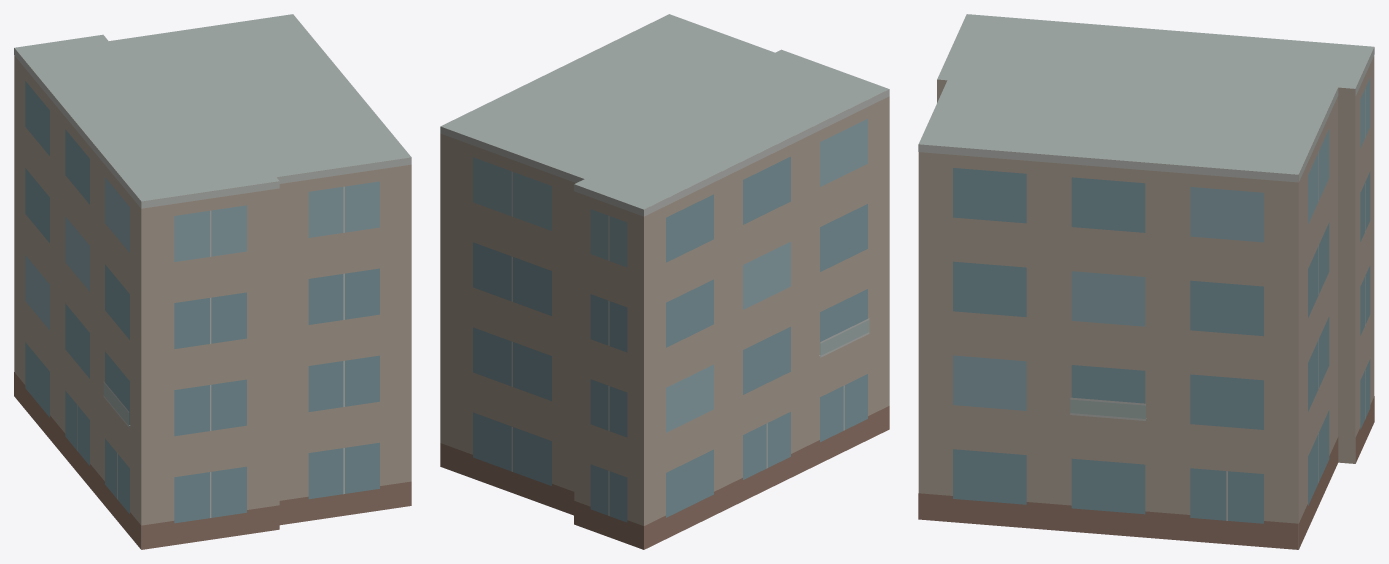
The model's file is survey-upis-32784476.glb.
3 renders of one model, left to right at view 1: azimuth 30°, elevation 25°; view 2: azimuth 150°, elevation 25°; view 3: azimuth 270°, elevation 25°, orthographic. The views are drawn at different scales.
Parts seen in each view (by area): view 1: survey-upis-32784476.tmp; view 2: survey-upis-32784476.tmp; view 3: survey-upis-32784476.tmp.
Boxes of the visible parts, x1,y1,x2,y2 form: survey-upis-32784476.tmp: [14, 14, 411, 549]; survey-upis-32784476.tmp: [440, 14, 889, 549]; survey-upis-32784476.tmp: [918, 14, 1374, 549].
Size of the model in its own units: 10.85 by 11.8 by 13.01.
